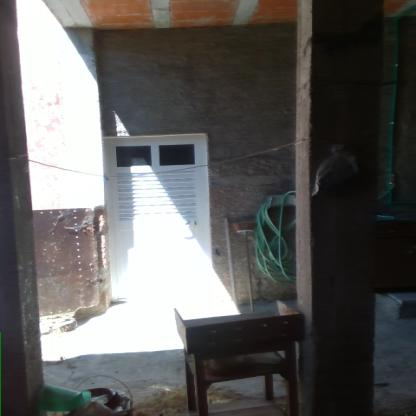closed: (86, 124, 224, 312)
